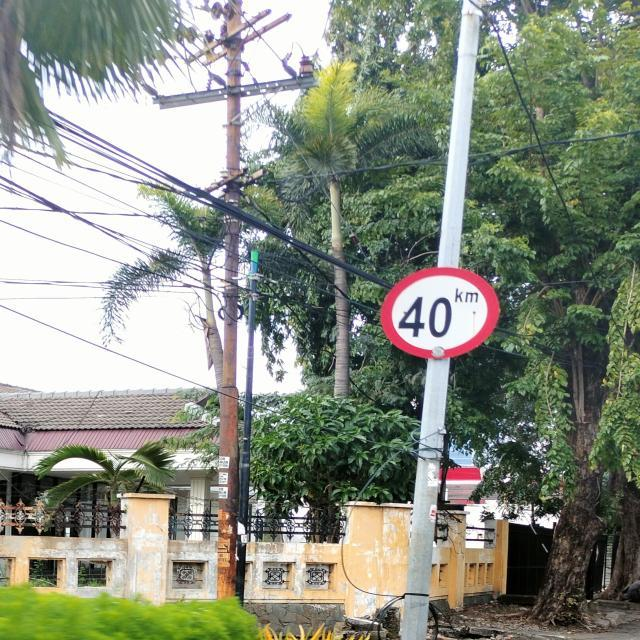Kecepatan Maks. 40 km: (380, 266, 500, 360)
